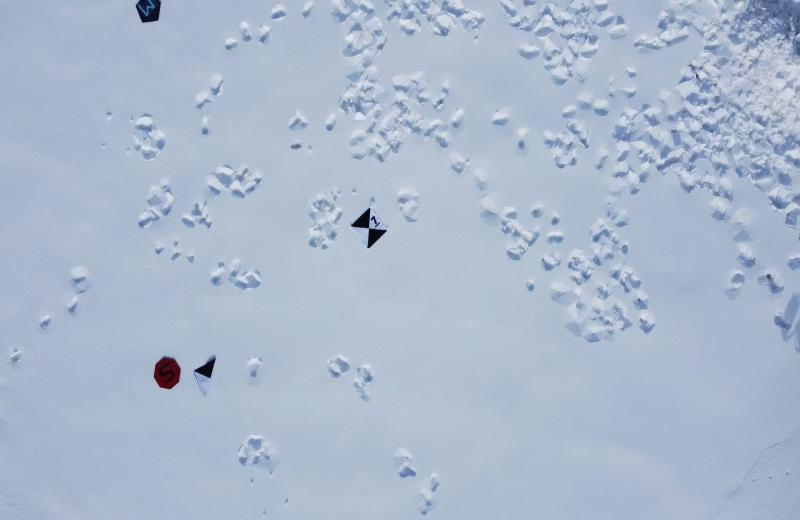Octagon: (150, 354, 181, 394)
Pentagon: (132, 0, 164, 30)
